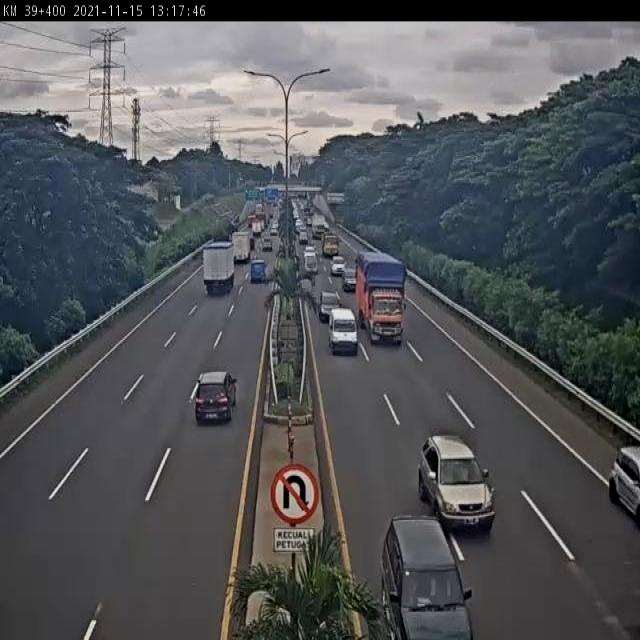Car: (384, 513, 460, 640), (420, 429, 497, 545), (608, 439, 640, 530), (198, 358, 232, 428), (322, 276, 340, 319), (332, 250, 345, 280)
Truck: (356, 243, 412, 351), (202, 229, 232, 311), (231, 212, 256, 266)
Van: (328, 304, 358, 368), (249, 252, 268, 302)
